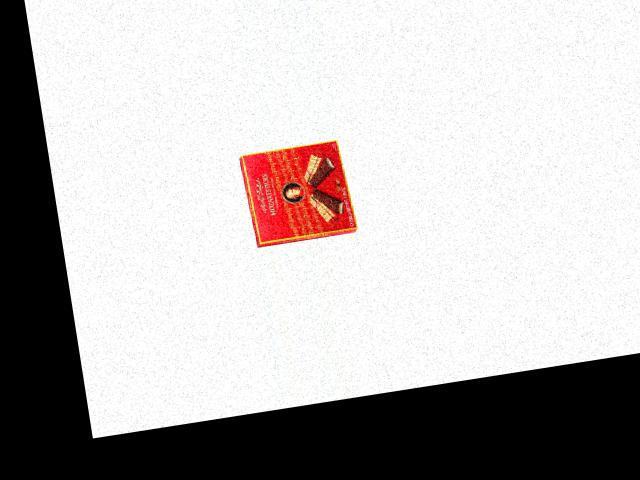chocolate: (240, 136, 361, 248)
